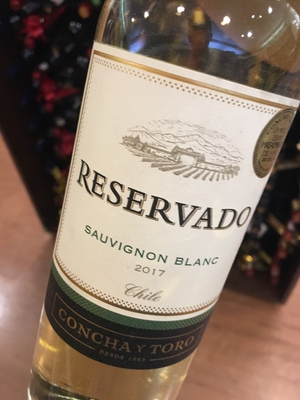reservado sauvignon blanc: (49, 12, 295, 400)
